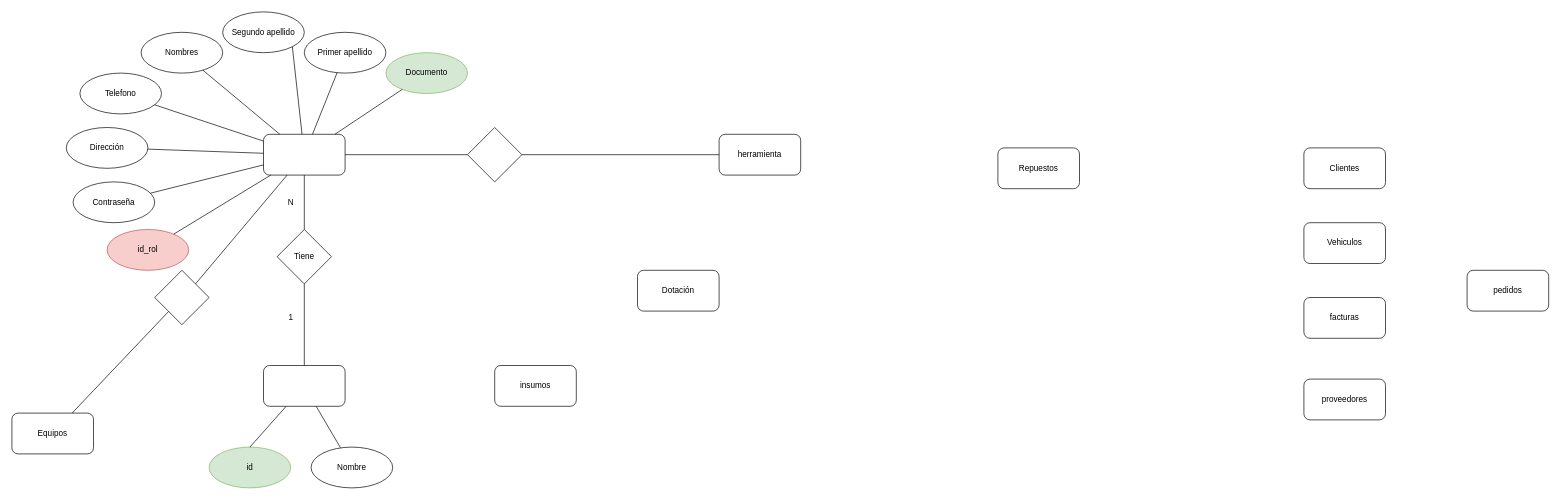
Image size: 1561x500. Some labels were removed from this diagram. Here are the shapes that lost their labels. From the top down, the box of each, then its label:
(263, 134, 345, 175): Usuarios
(263, 365, 345, 406): Roles
